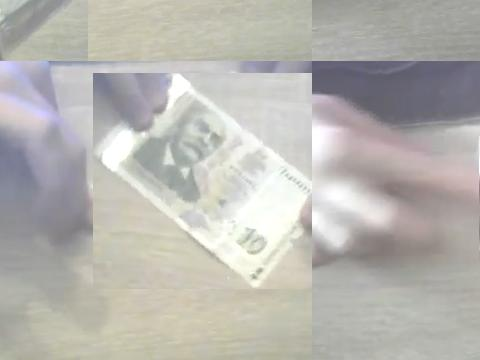10leva: (93, 73, 312, 289)
